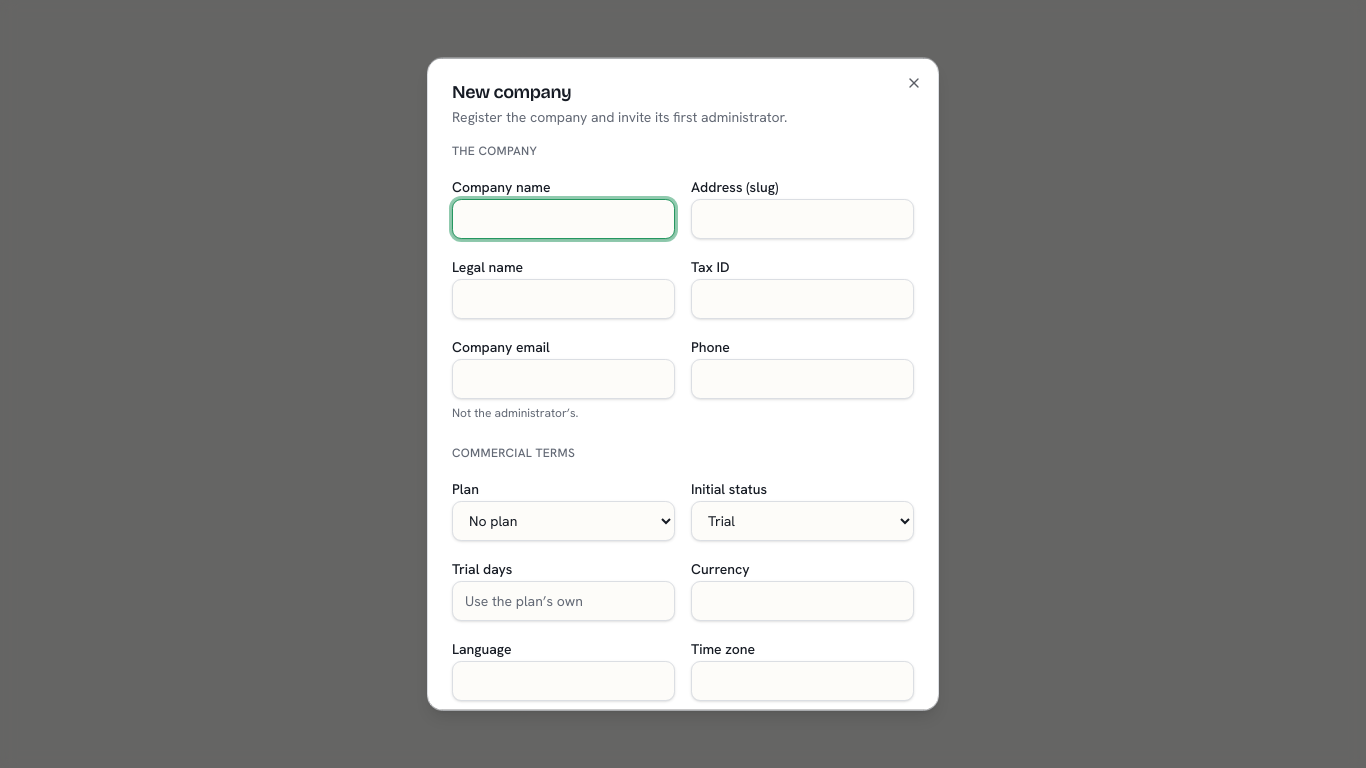
CreateTenantDialog › refuses what the shared schema refuses, and says so
Type "Sirius" into the field labelled "Company name" at (564, 219), box [452,199,675,239]
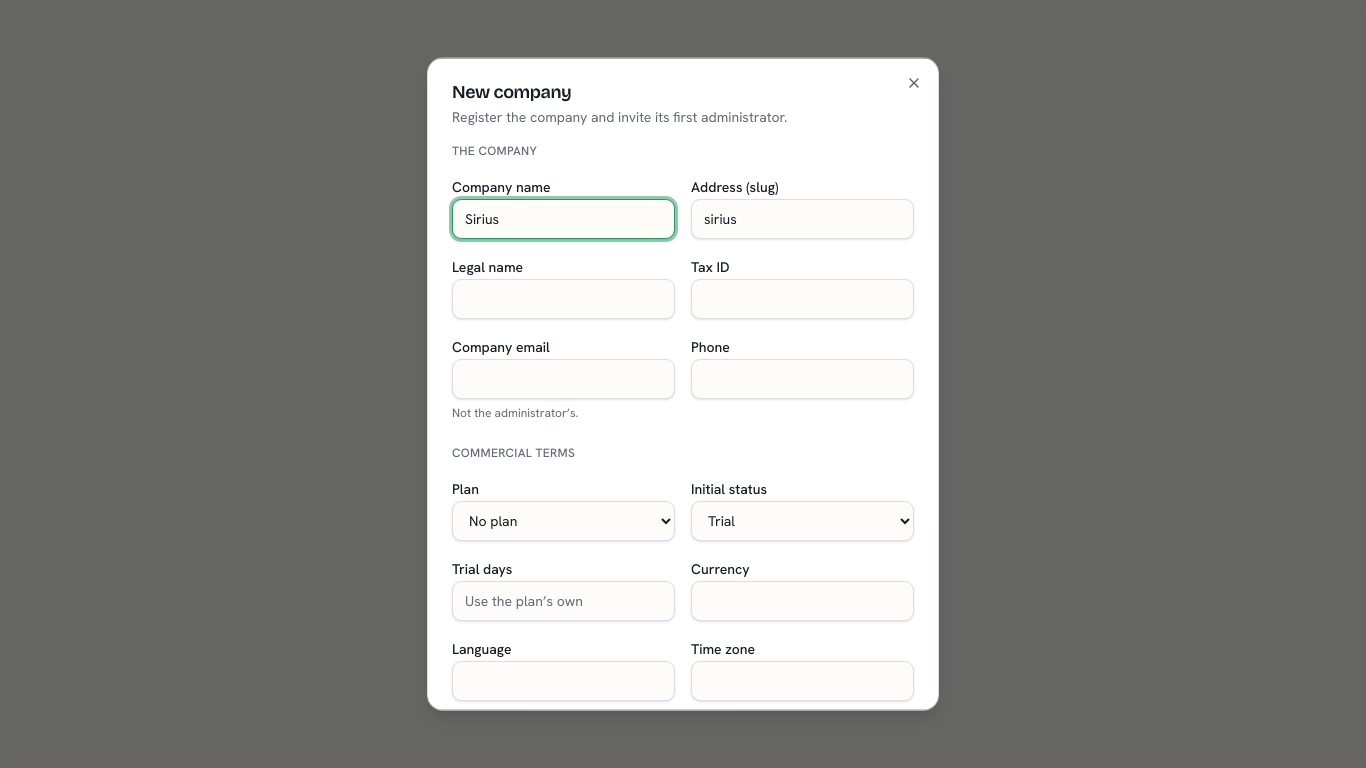
Type "not-an-email" into the field labelled "Company email" at (564, 379), box [452,359,675,399]
(page scrolled)
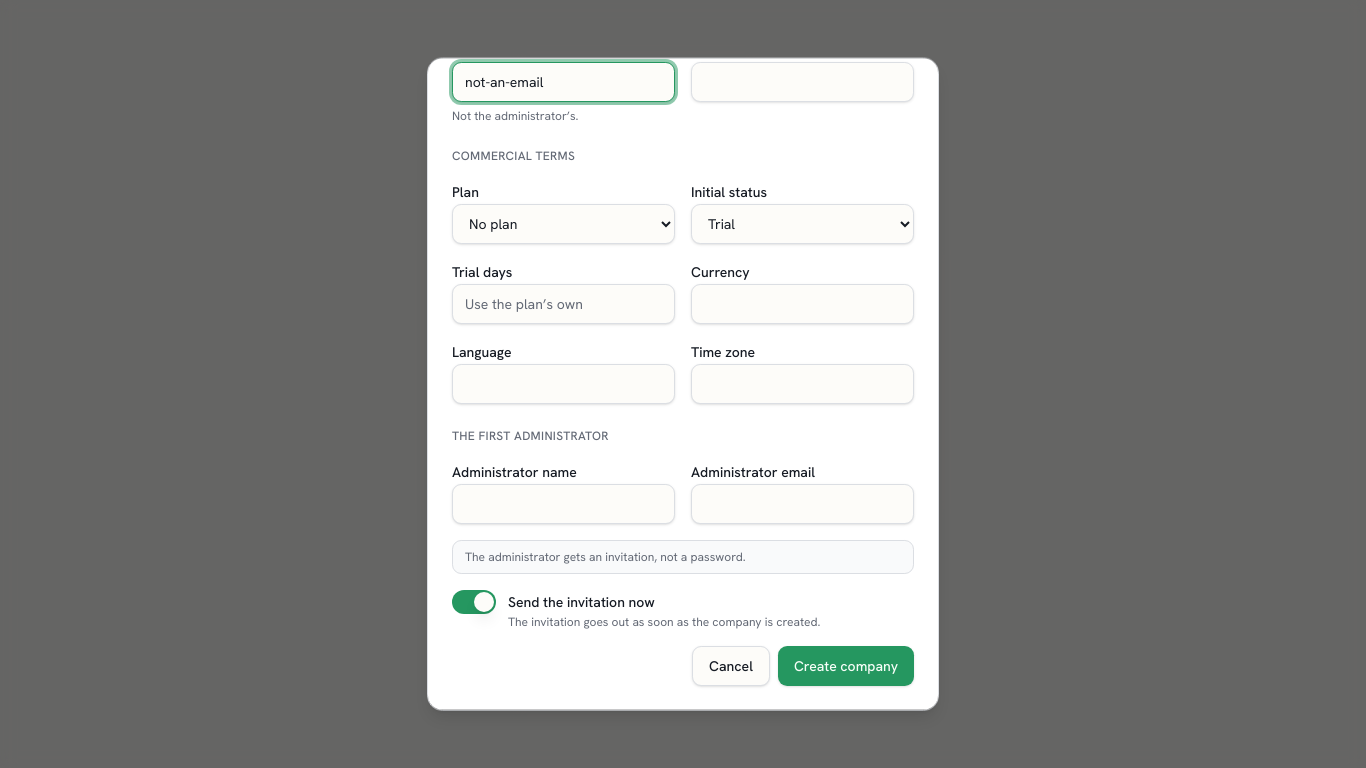
Click the button "Create company" at (846, 666), box [778,646,914,686]
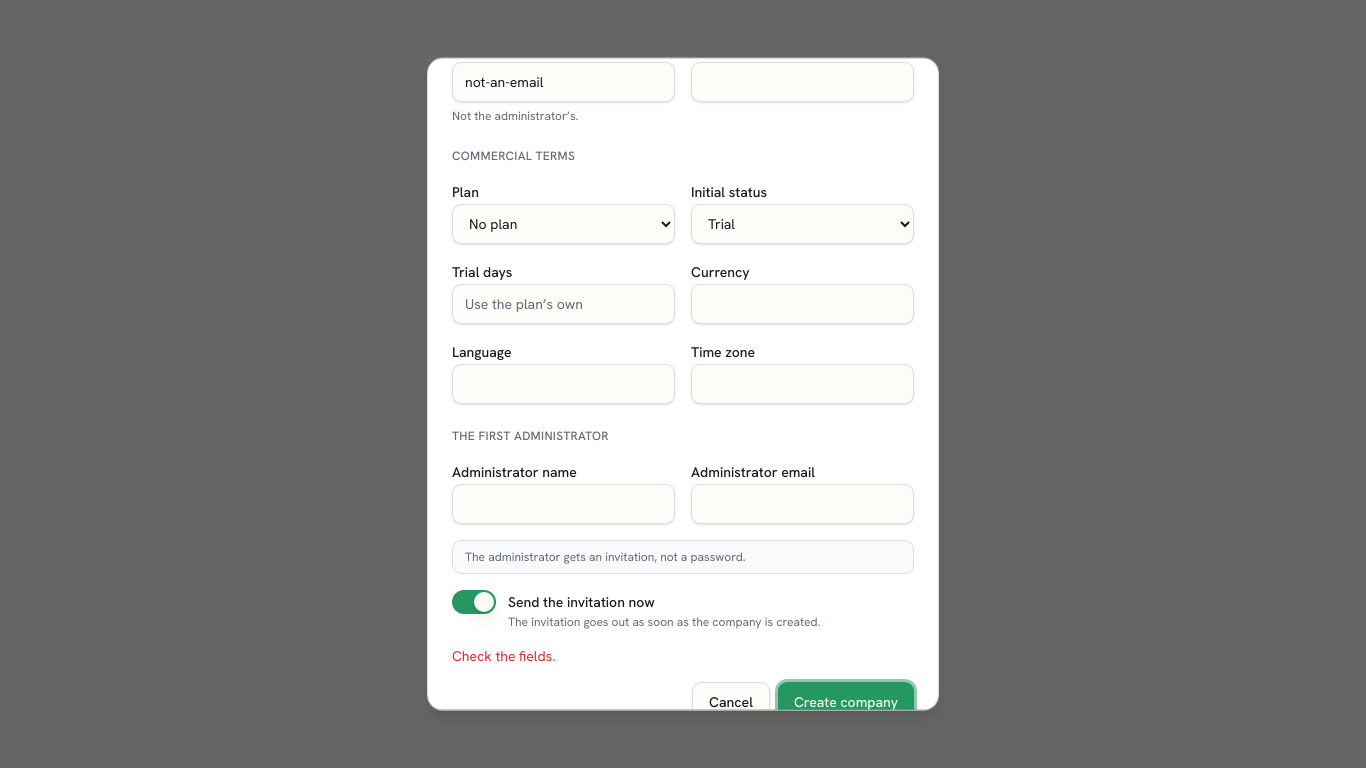
Now the message reads "Check the fields.", box [452,647,556,665]
